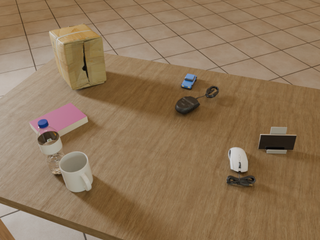book: (29, 103, 88, 137)
bottle: (37, 119, 65, 175)
box: (49, 24, 106, 90)
cup: (59, 152, 93, 192)
mouse: (229, 148, 248, 174), (175, 96, 200, 114)
phone: (258, 134, 296, 150)
toy_car: (181, 74, 197, 89)
